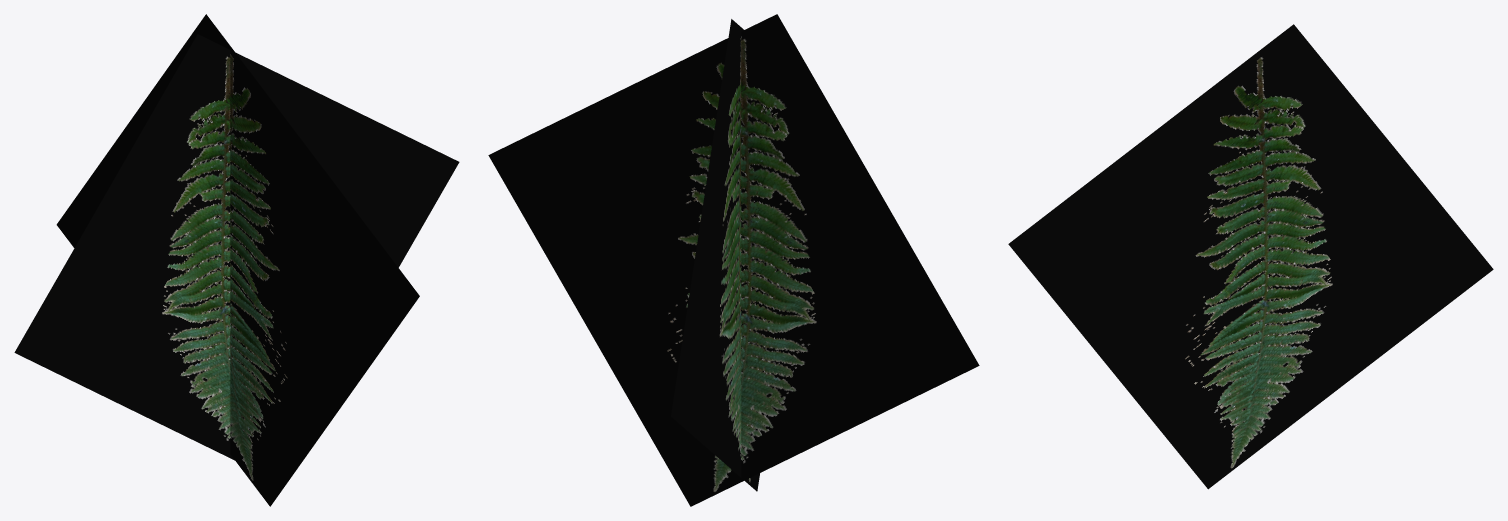
File: fol4.glb
3 renders of one model, left to right at view 1: azimuth 30°, elevation 25°; view 2: azimuth 150°, elevation 25°; view 3: azimuth 270°, elevation 25°, orthographic. The views are drawn at different scales.
Parts seen in each view (by area): view 1: Plane, Plane.001; view 2: Plane, Plane.001; view 3: Plane.001.
Boxes of the visible parts, box(x1,y1,x2,y2) form: Plane: box(14, 34, 459, 460); Plane.001: box(56, 14, 419, 506); Plane: box(488, 14, 979, 506); Plane.001: box(671, 19, 759, 491); Plane.001: box(1008, 24, 1493, 489).
Size of the model in its own units: 2.79 by 2.8 by 2.69.
Materials: 1 (1 with a texture image).
